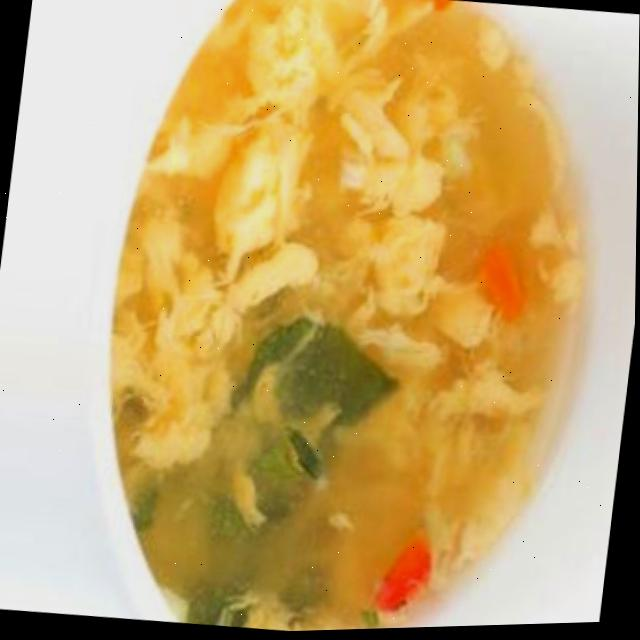汤锅炖物: (9, 0, 640, 640)
